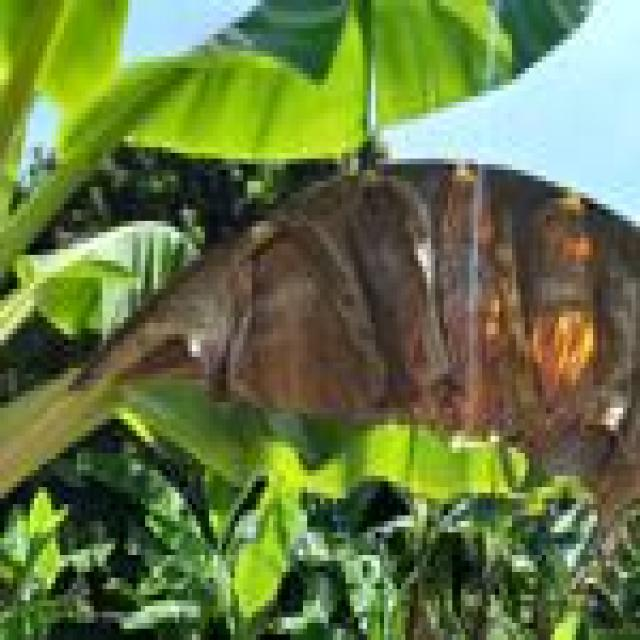Early_rust: (140, 148, 640, 499)
